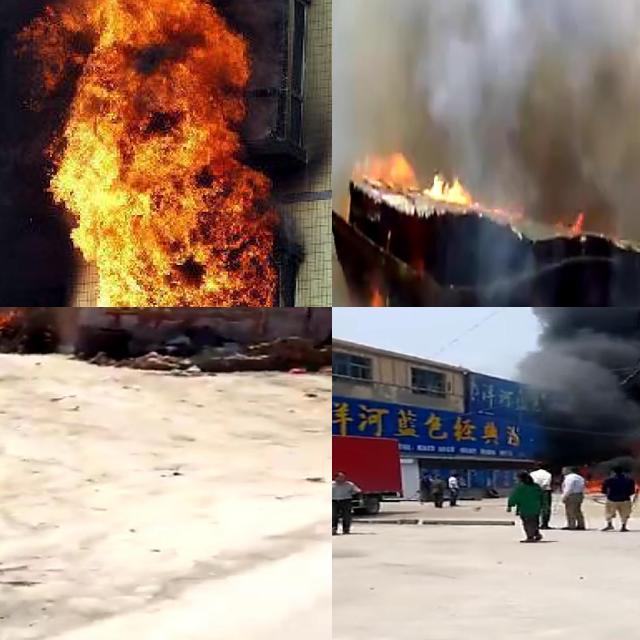fire: (28, 0, 301, 307), (358, 154, 520, 217), (576, 456, 640, 493), (0, 308, 16, 342), (368, 285, 387, 307)
smoke: (347, 0, 640, 206)
